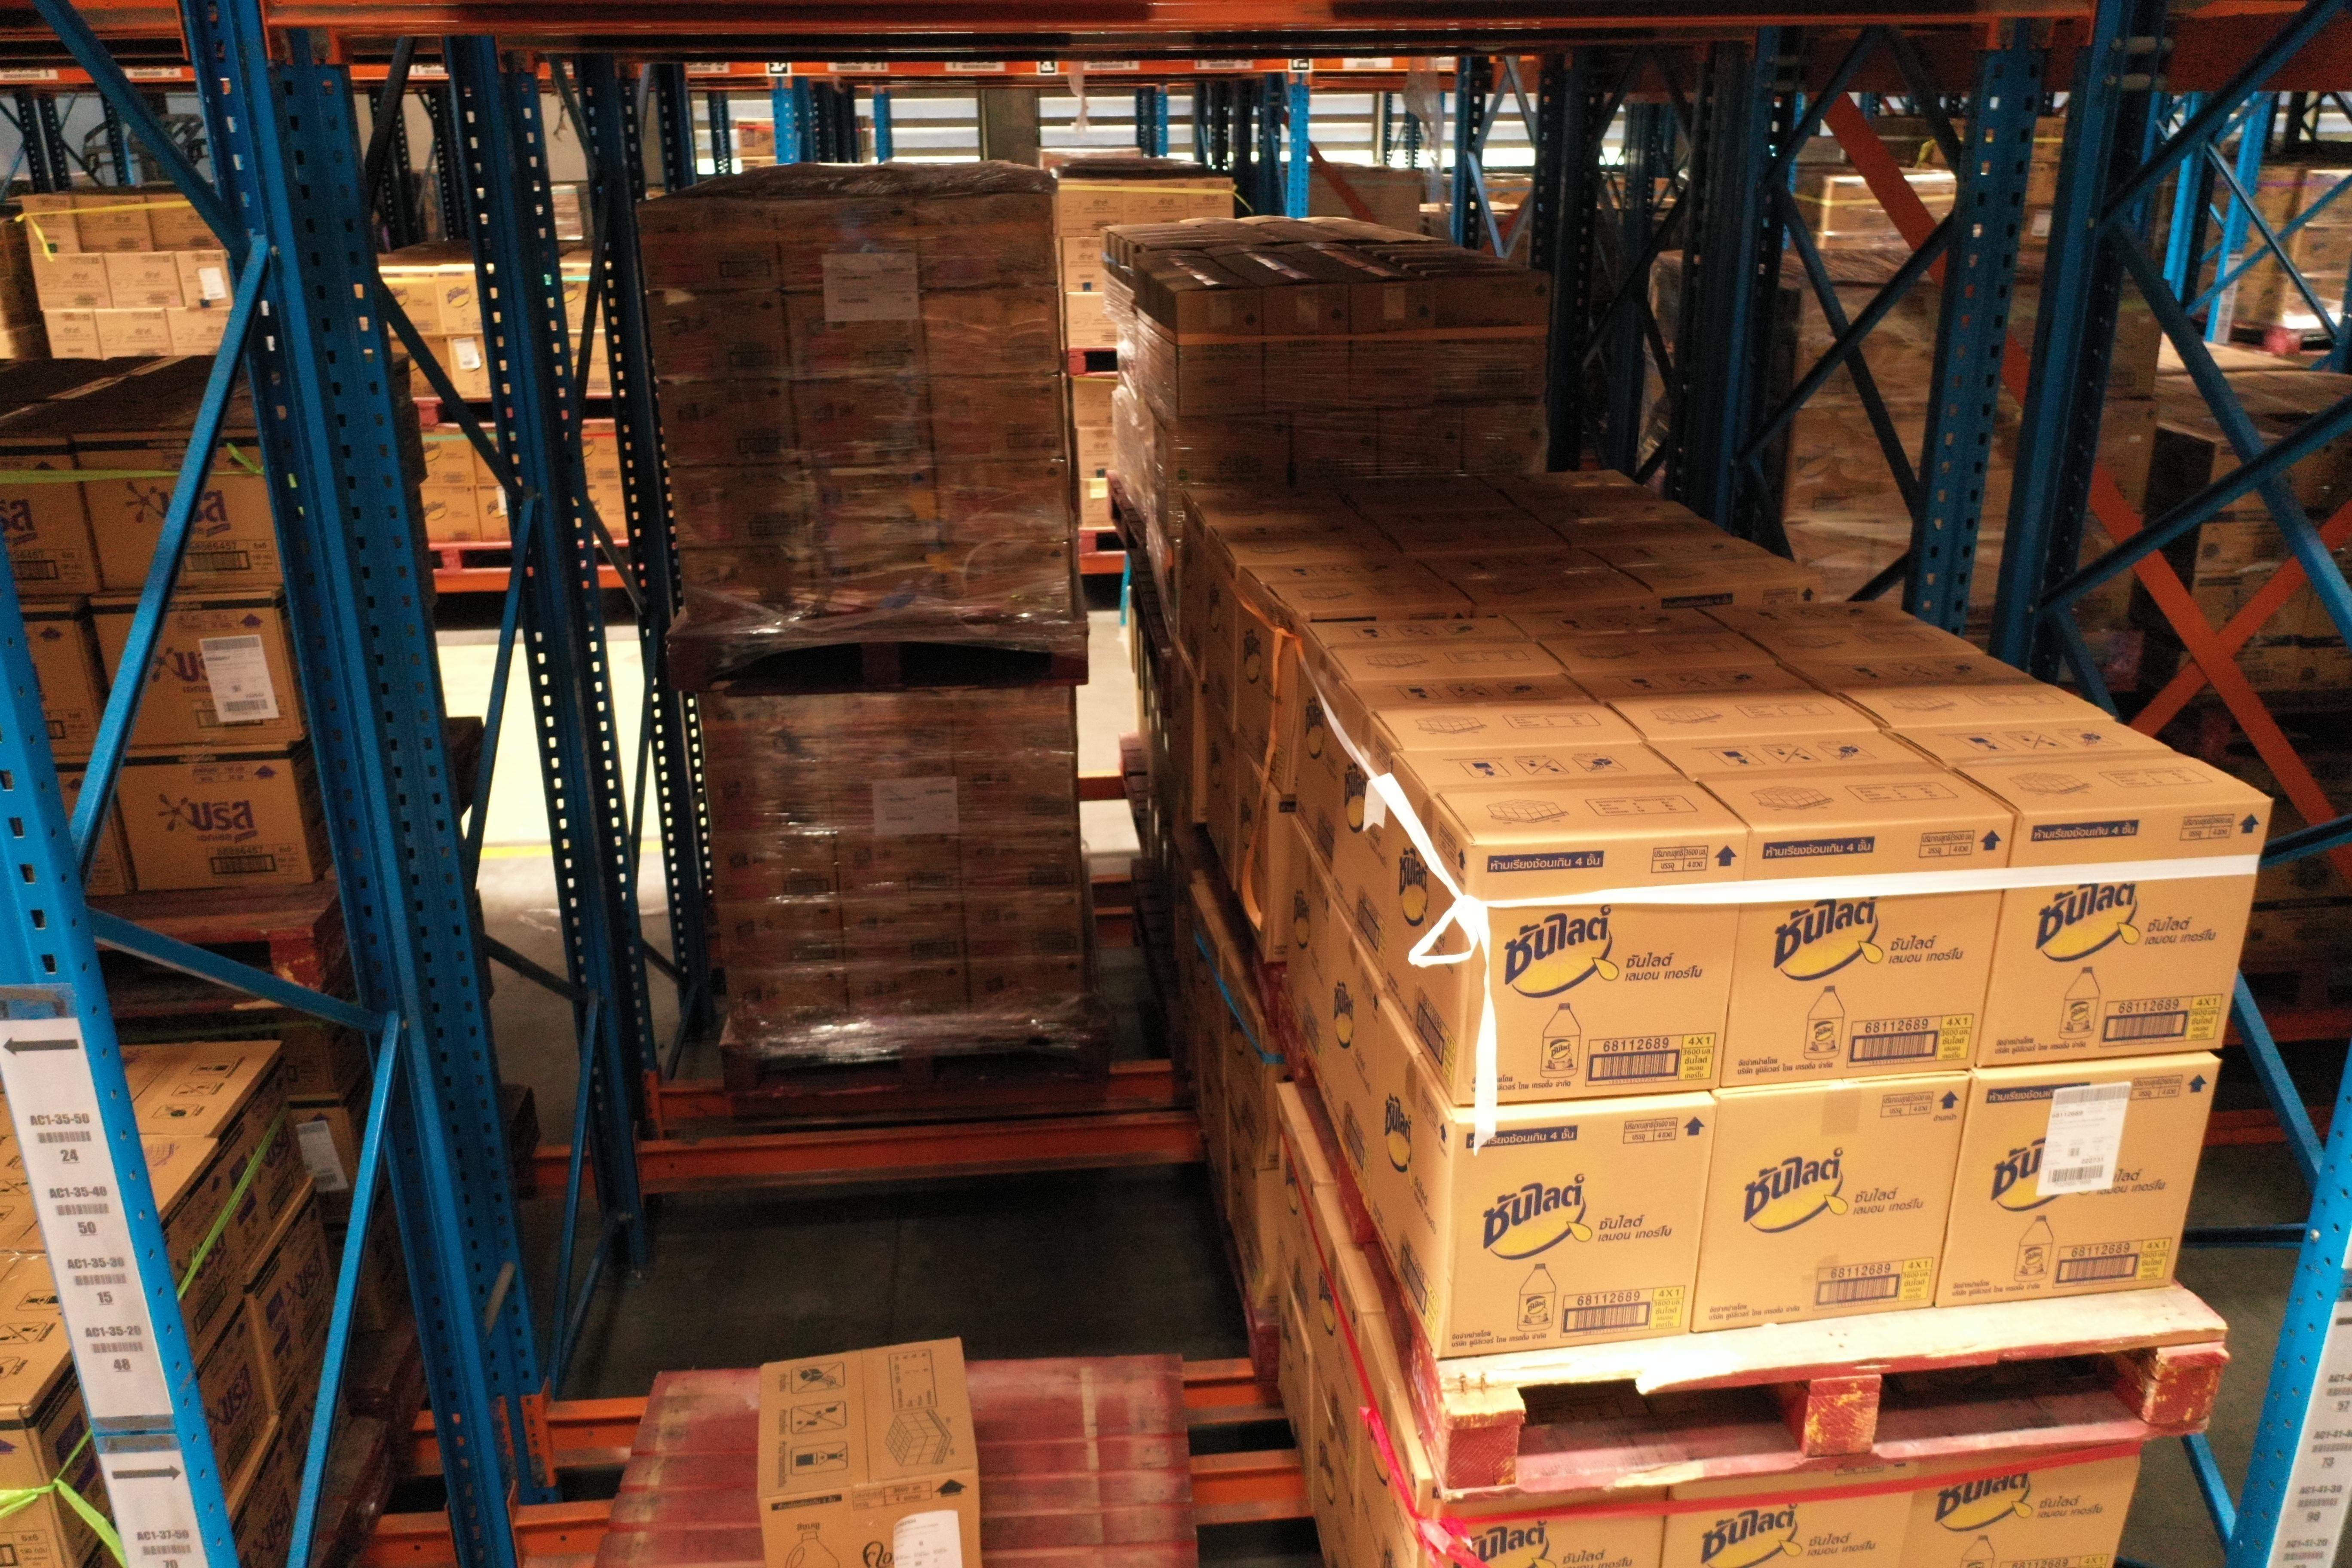-: (1454, 828, 1750, 1111), (1972, 800, 2271, 1073), (1725, 814, 2016, 1090), (1694, 1076, 1972, 1337), (1935, 1059, 2217, 1312), (1440, 1102, 1713, 1360), (1904, 1442, 2140, 1568), (1659, 1459, 1916, 1568), (759, 1461, 982, 1568), (1419, 1480, 1671, 1568)
2: (70, 429, 283, 593), (87, 590, 303, 749), (105, 740, 315, 891), (0, 437, 98, 597), (1437, 273, 1550, 404), (773, 198, 920, 294), (915, 196, 1055, 294), (17, 605, 105, 756), (639, 203, 780, 294), (647, 290, 789, 381), (924, 285, 1060, 378), (784, 294, 926, 383), (793, 378, 931, 467), (927, 374, 1062, 464), (660, 381, 800, 467), (801, 460, 941, 546), (933, 457, 1067, 544), (1174, 289, 1265, 418), (670, 467, 808, 548), (1351, 276, 1437, 406), (1265, 283, 1353, 409), (808, 544, 945, 623), (940, 541, 1073, 621), (679, 548, 817, 623), (828, 758, 959, 836), (709, 833, 838, 908), (703, 763, 831, 838), (952, 754, 1076, 831), (696, 693, 829, 765), (845, 961, 966, 1038), (835, 833, 966, 903), (730, 966, 849, 1043), (961, 826, 1080, 899), (824, 693, 952, 761), (840, 901, 966, 969), (950, 686, 1073, 756), (717, 908, 843, 969), (968, 959, 1080, 1027), (964, 894, 1081, 959)
